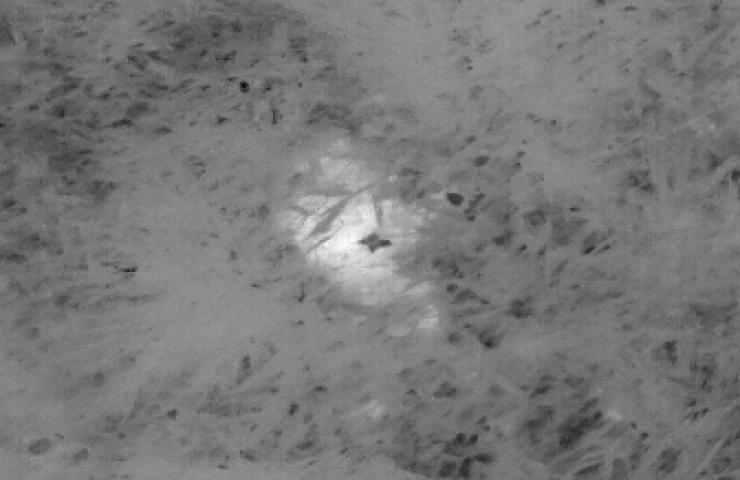landmines: (285, 181, 452, 309)
